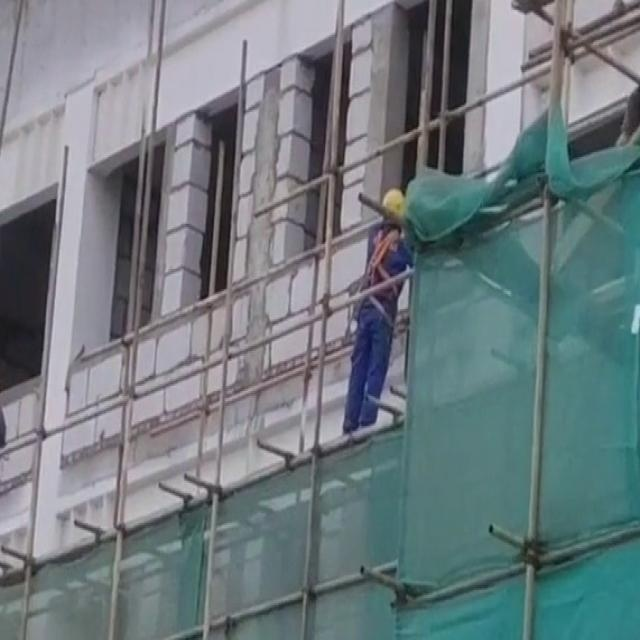Arnes_seguridad: (361, 222, 401, 294)
